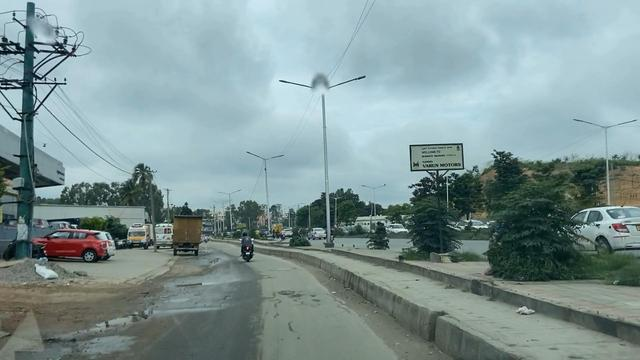RoadDamages: (267, 282, 320, 335)
